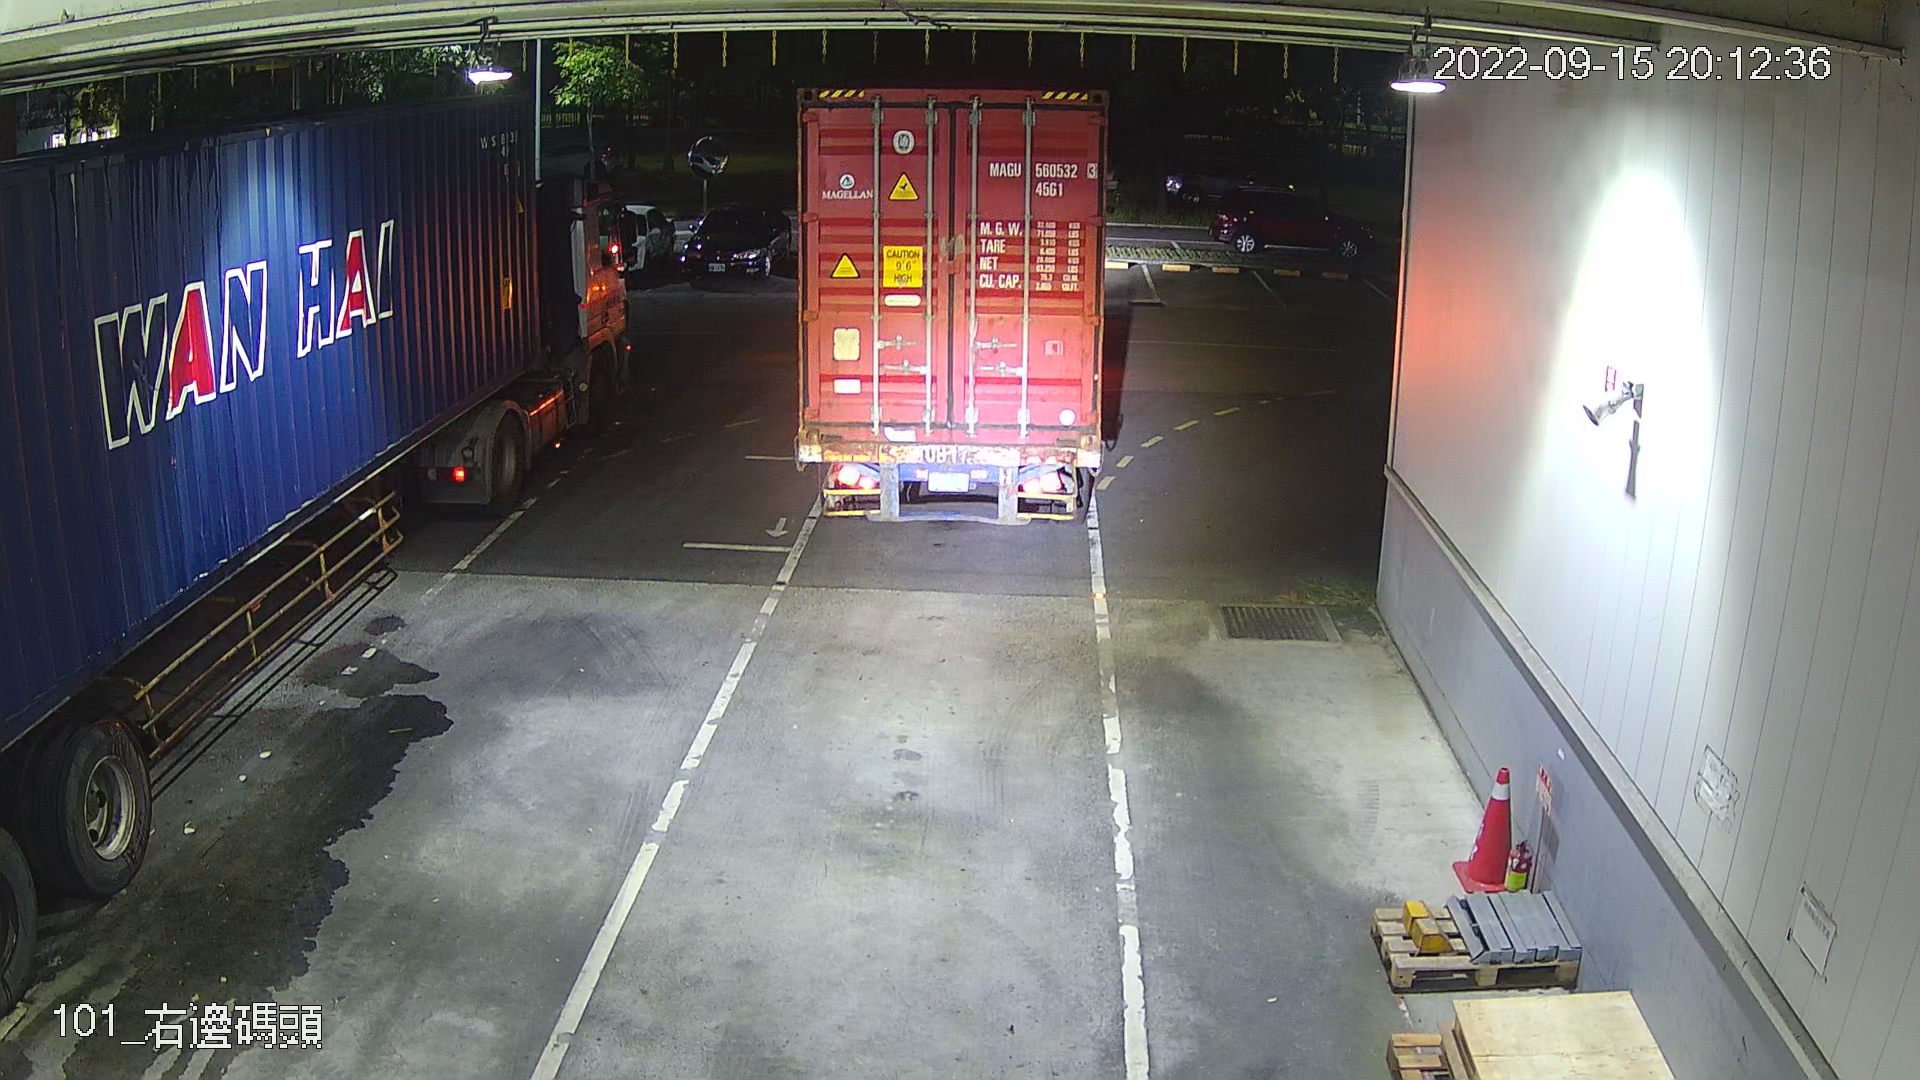container: (982, 152, 1102, 204)
